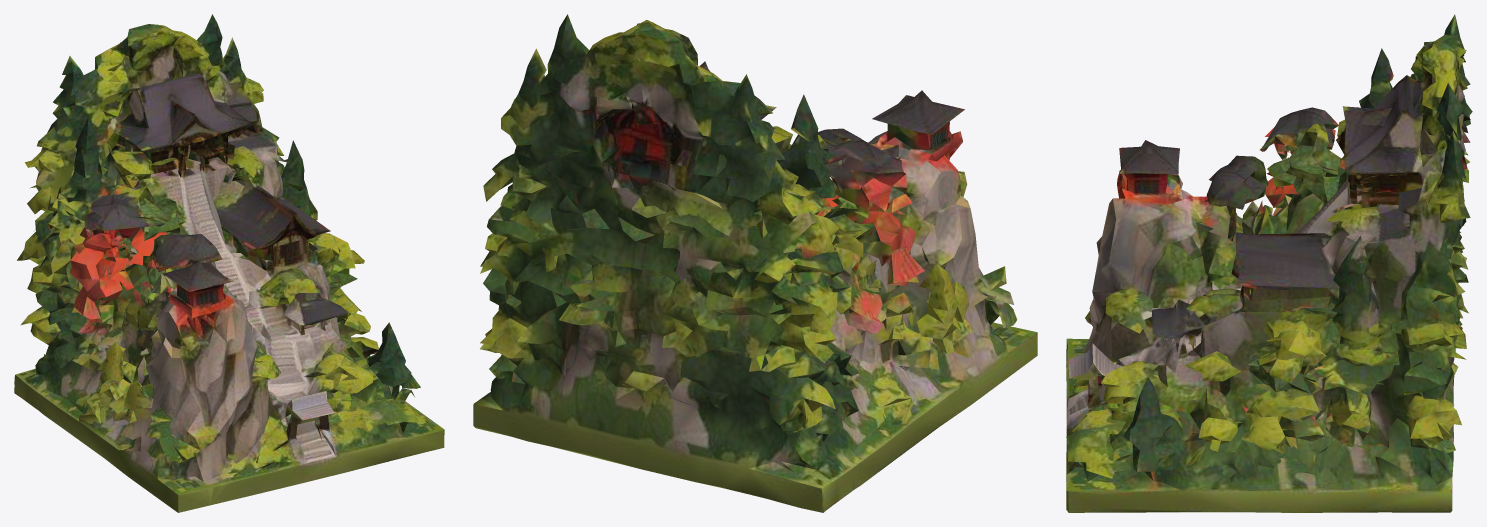
The model's file is yamadera.glb.
The picture shows the model from 3 angles, left to right: view 1: azimuth 30°, elevation 25°; view 2: azimuth 150°, elevation 25°; view 3: azimuth 270°, elevation 25°; orthographic projection. The views are drawn at different scales.
Parts seen in each view (by area): view 1: logan-textured.obj; view 2: logan-textured.obj; view 3: logan-textured.obj.
Part boxes in pixels (x1,y1,x2,y2): logan-textured.obj: [14, 14, 444, 512]; logan-textured.obj: [473, 14, 1037, 512]; logan-textured.obj: [1066, 14, 1472, 512].
Size of the model in its own units: 0.8924 by 1 by 0.9334.
Materials: 1 (1 with a texture image).
